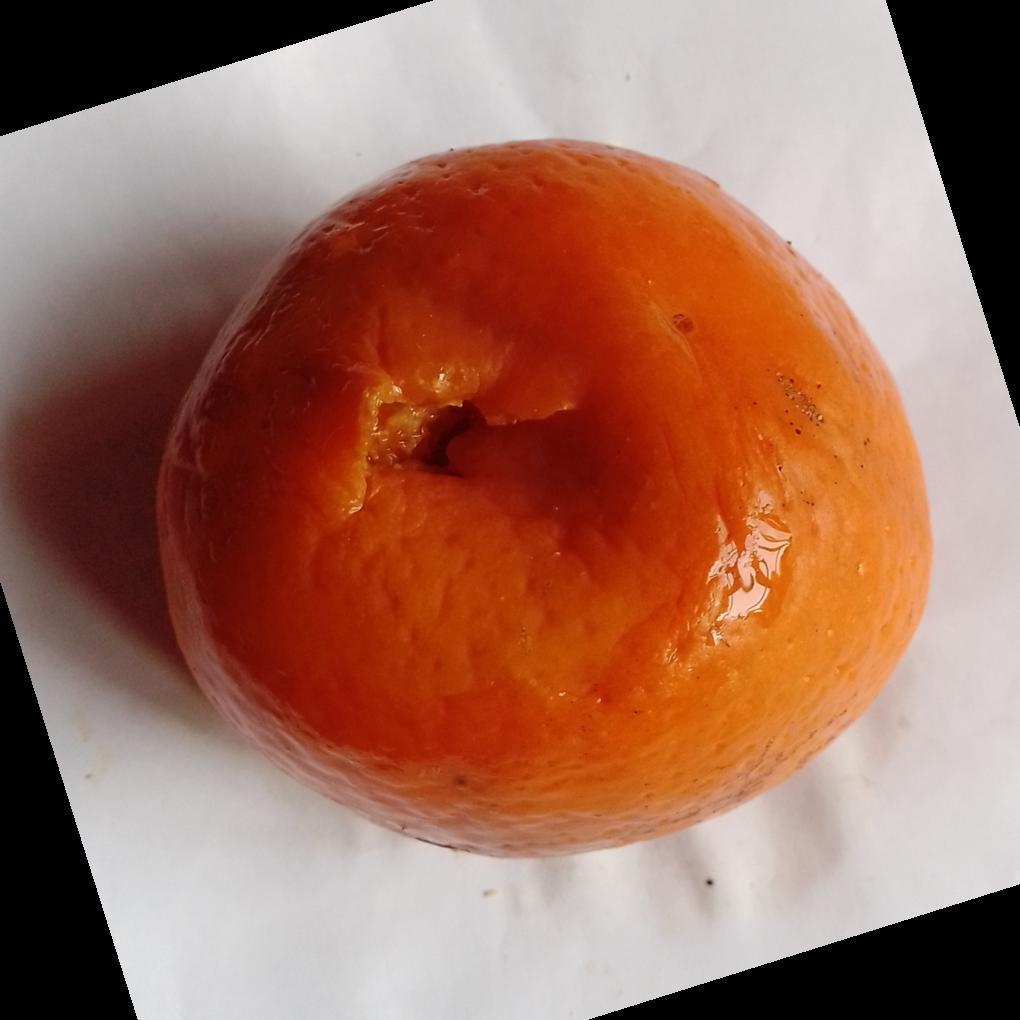FreshOrange: (152, 139, 935, 862)
